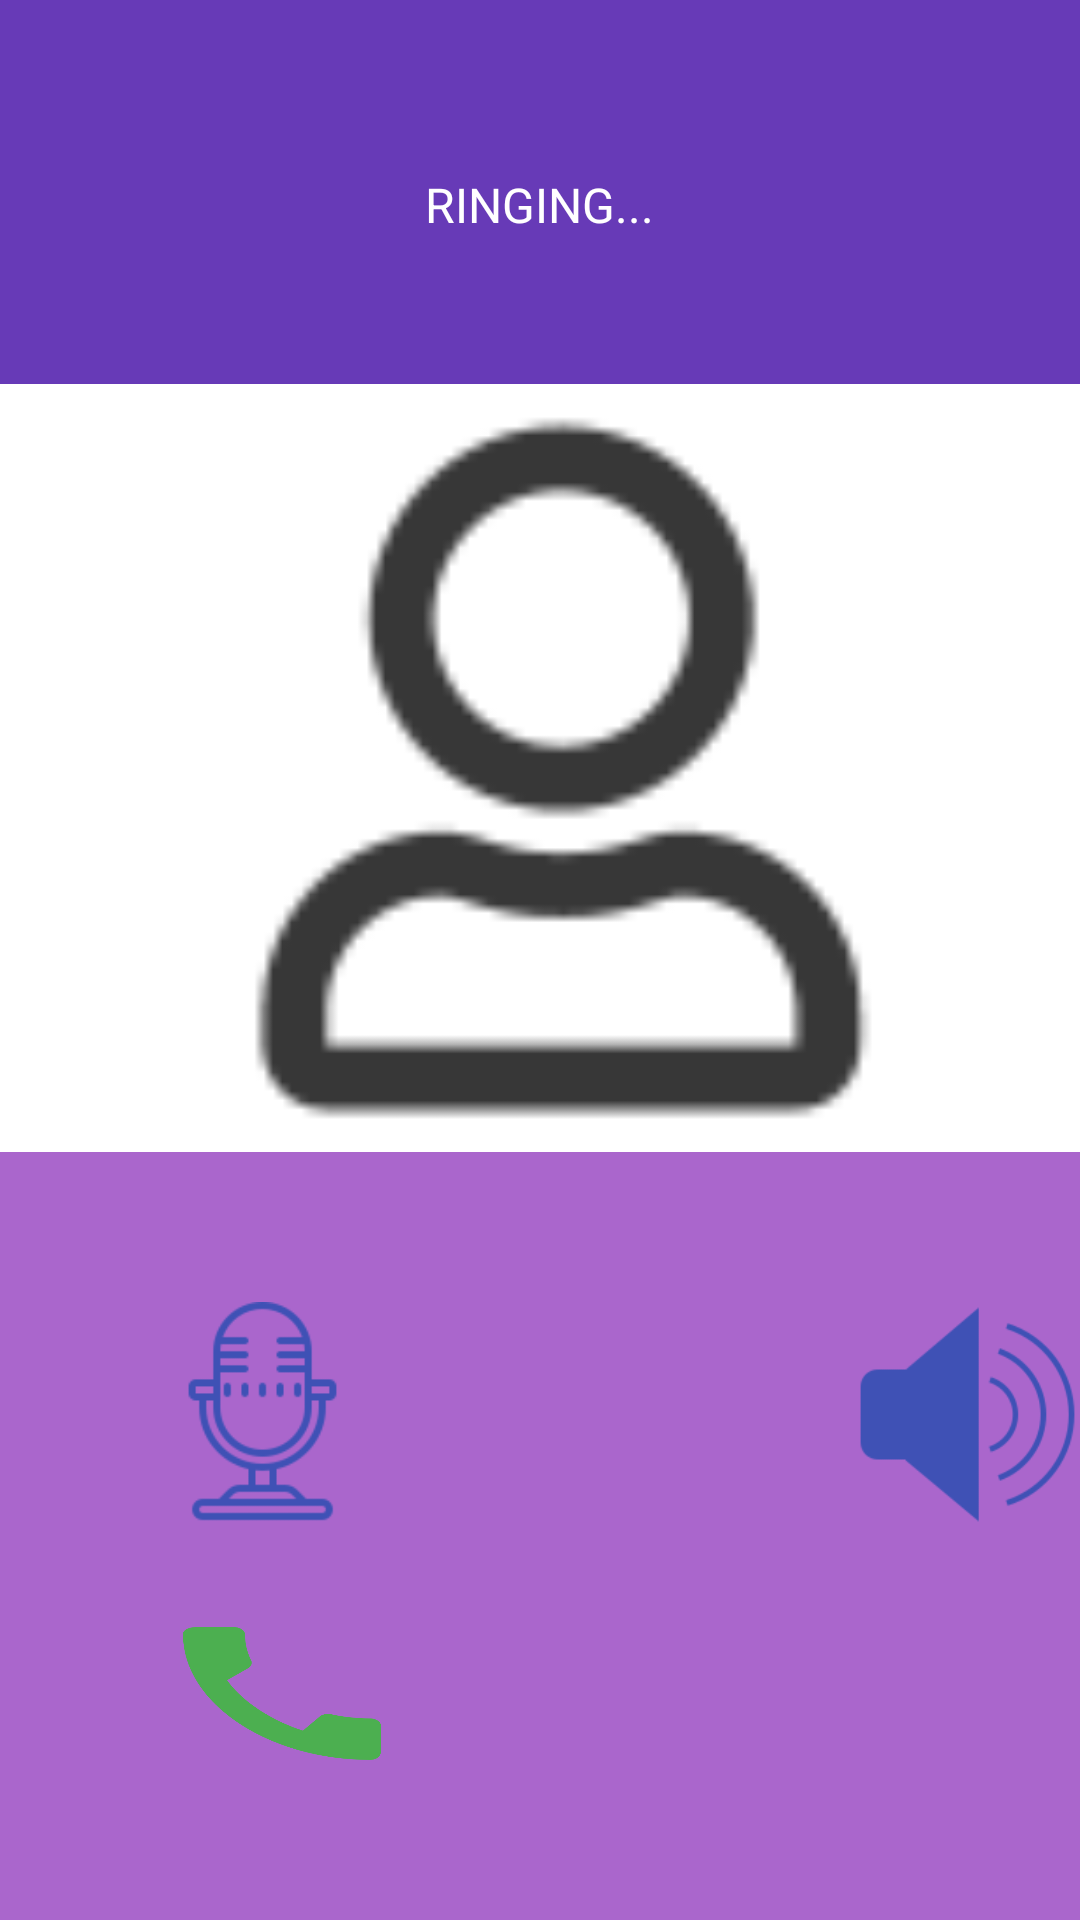

Where to tap for icons on this 1080x1920 app screen, as point (x, y):
call: point (282, 1693)
microphone: point (262, 1411)
speaker: point (967, 1414)
